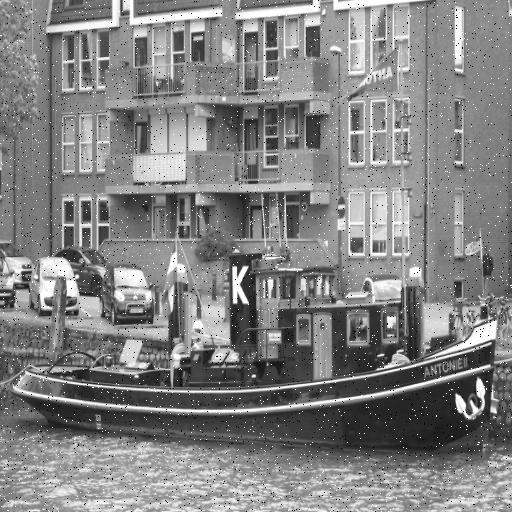tugboat: (8, 239, 496, 466)
